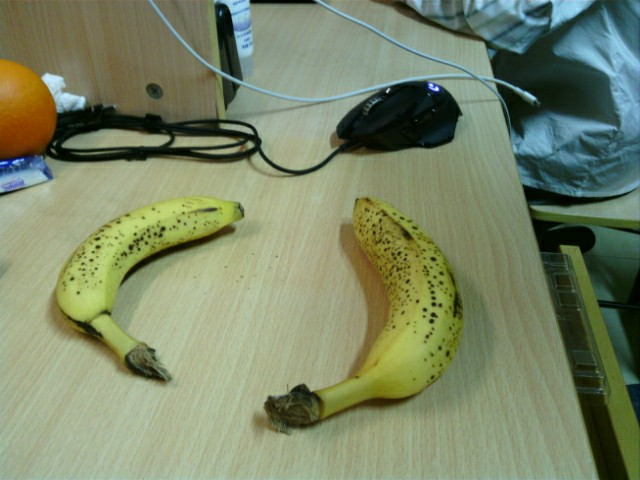normal_banana: (263, 198, 461, 433), (55, 197, 246, 385)
